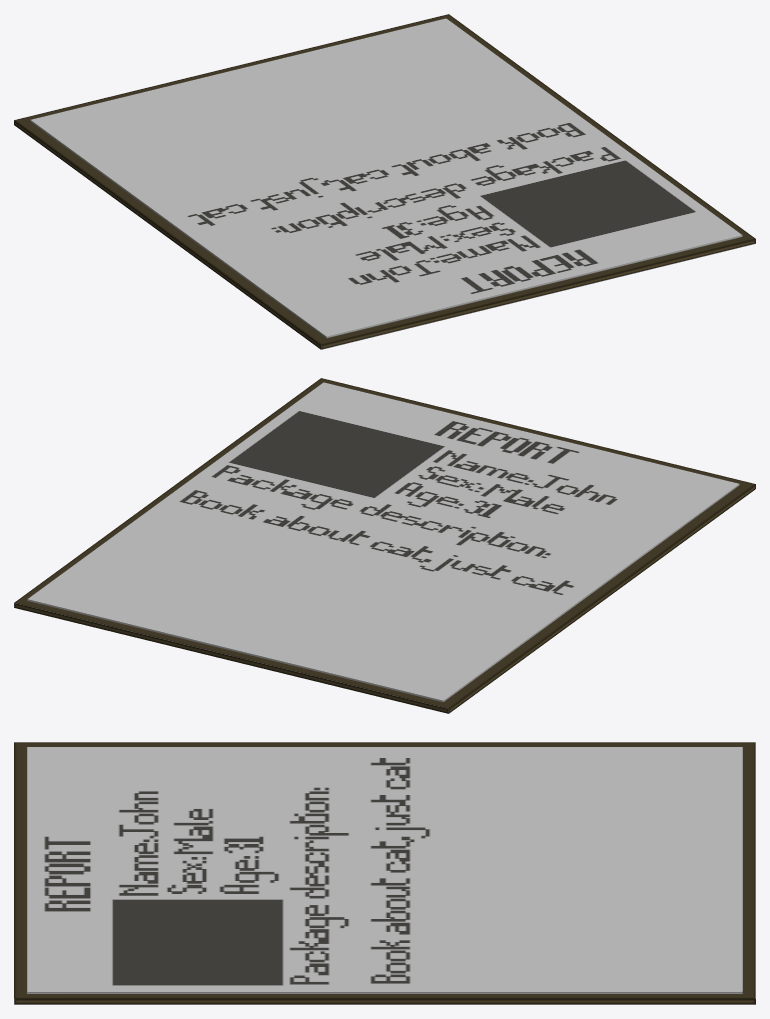
The model's file is note_book.fbx.
The picture shows the model from 3 angles, top to bottom: view 1: azimuth 30°, elevation 25°; view 2: azimuth 150°, elevation 25°; view 3: azimuth 270°, elevation 25°; orthographic projection. The views are drawn at different scales.
Parts seen in each view (by area): view 1: cube, cube_1; view 2: cube, cube_1; view 3: cube, cube_1.
Part boxes in pixels (x1,y1,x2,y2): cube: [30, 18, 742, 338]; cube_1: [14, 14, 755, 349]; cube: [27, 382, 739, 702]; cube_1: [14, 378, 755, 713]; cube: [27, 747, 742, 993]; cube_1: [14, 742, 755, 1004].
Bounding box in the file's own units: 1731 × 25 × 2119.
1 material, 1 textured.
